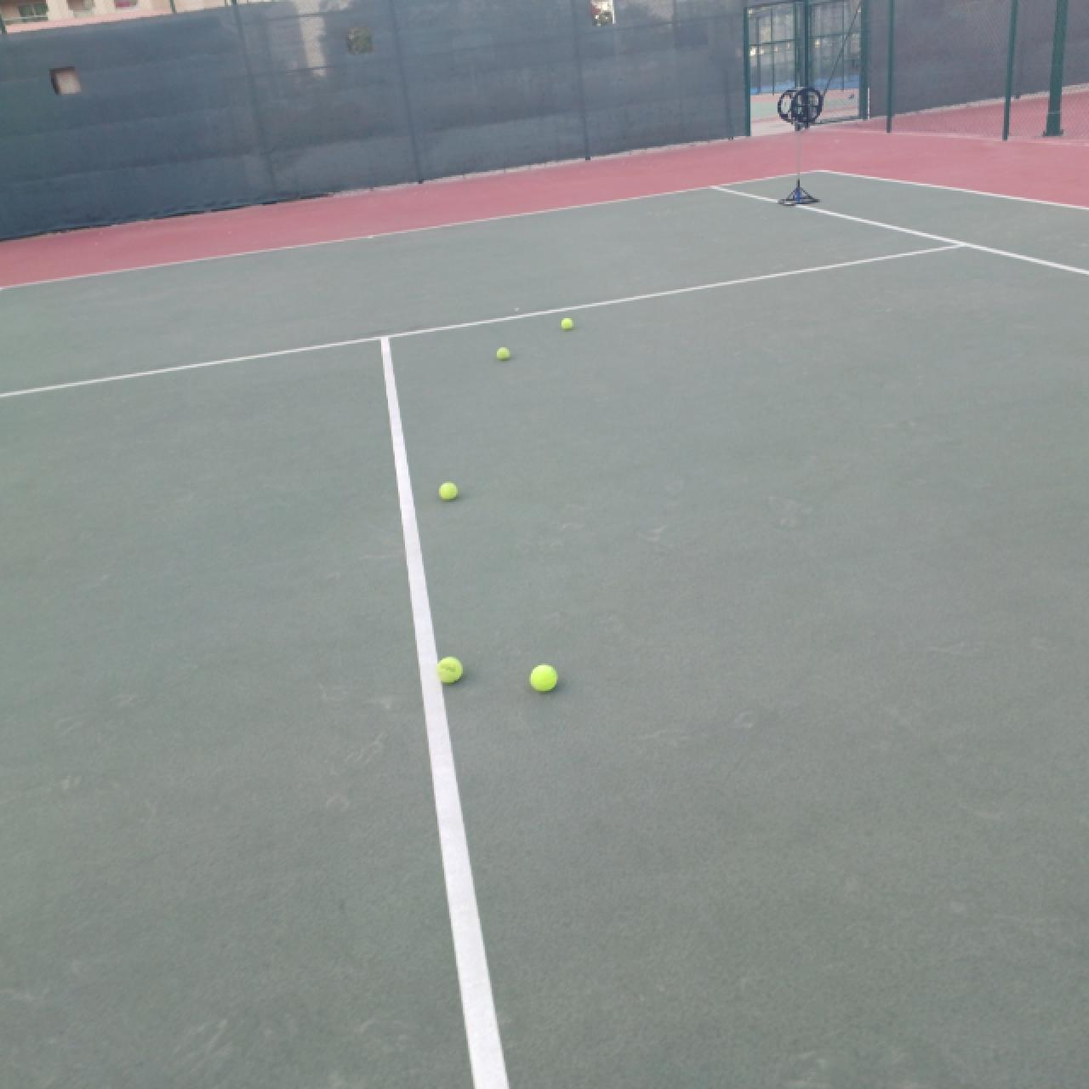tennis-ball: (528, 663, 559, 693), (434, 656, 463, 684), (438, 481, 459, 502), (496, 346, 511, 361), (560, 317, 574, 332)
